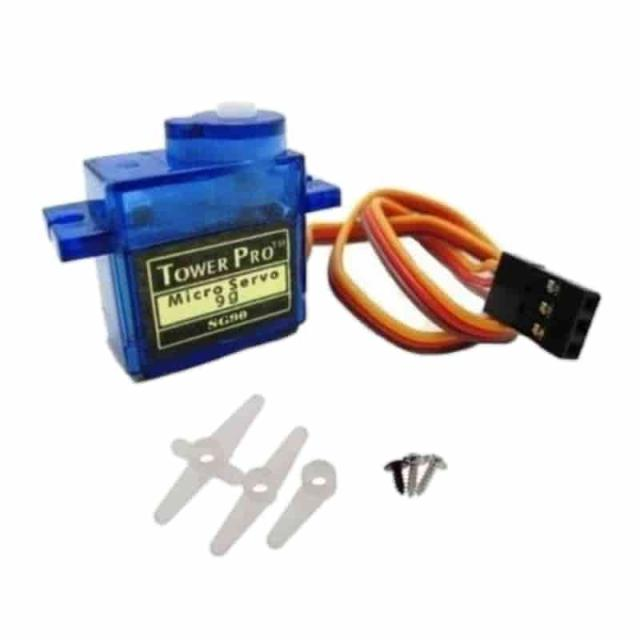motor: (45, 105, 598, 378)
